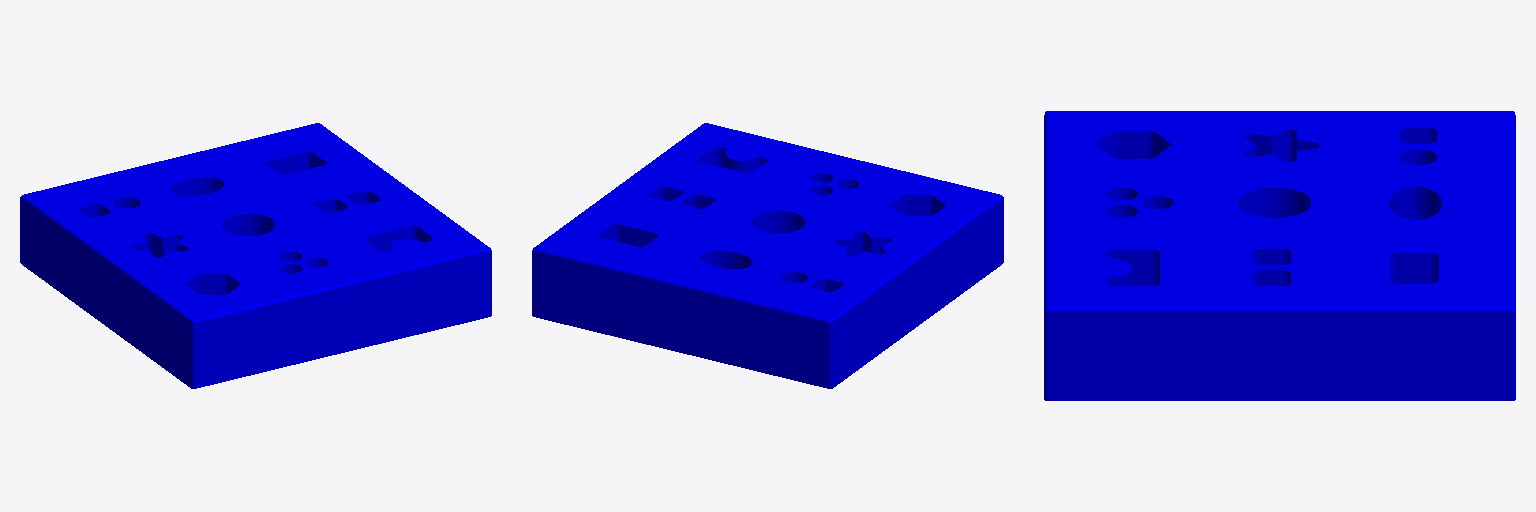
The robot description file, URDF, robot "board3_base":
<?xml version="1.0"?>
<robot name="board3_base">
    <link name="board3_base">
        <visual>
            <origin xyz="0 0 0 " rpy=" 0 0 0"/>
            <geometry>
                <mesh filename="../meshes/SIMO_Board3_Base.stl" scale="0.001 0.001 0.001"/>
            </geometry>
            <material name="red">
                <color rgba="0.0 0.0 1.0 1.0"/>
            </material>
        </visual>
        <collision>
            <origin xyz="0 0 0" rpy="0 0 0"/>
            <geometry>
                <mesh filename="../meshes/SIMO_Board3_Base.stl" scale="0.001 0.001 0.001"/>
            </geometry>
        </collision>
    </link>
</robot>

--- What the picture shows (computed from the rendered views, not written in the file) ---
The picture shows the robot from 3 angles, left to right: view 1: azimuth 30°, elevation 25°; view 2: azimuth 150°, elevation 25°; view 3: azimuth 270°, elevation 25°; orthographic projection.
Robot: board3_base — 1 links, 0 joints (none); root link board3_base; default pose: every joint at zero.
Links seen in each view (by area): view 1: board3_base; view 2: board3_base; view 3: board3_base.
Boxes of the visible links, x1,y1,x2,y2 form: board3_base: (20,123,491,388); board3_base: (532,123,1003,388); board3_base: (1044,111,1515,400).
Size in the robot's own frame: 0.23 by 0.23 by 0.05 metres.
1 mesh visuals loaded from 1 distinct referenced files (1 ASCII STL).
